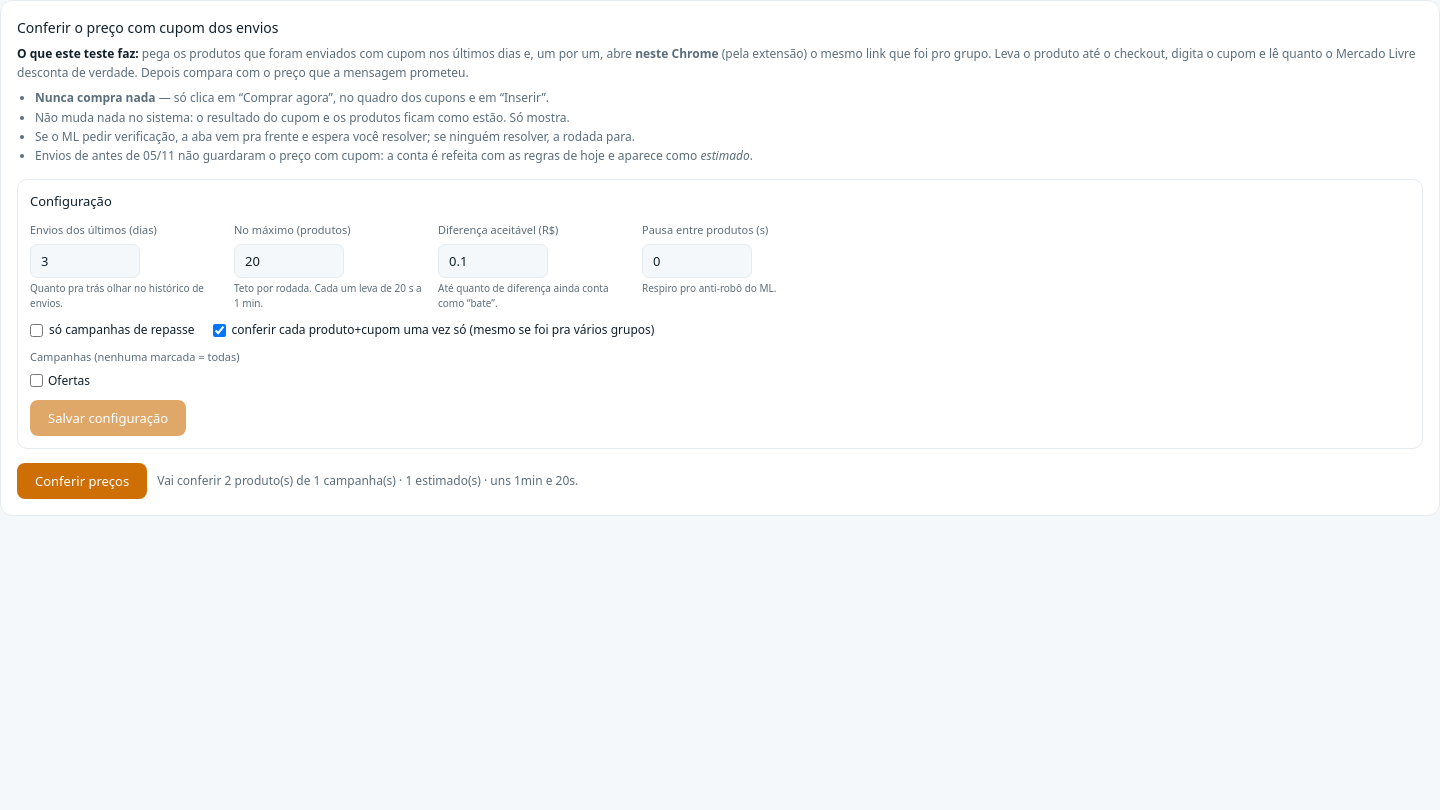
Test: Cupons Teste › verificação do ML não resolvida para a rodada toda
Click the button "Conferir preços" at (82, 481), box [17,463,147,499]
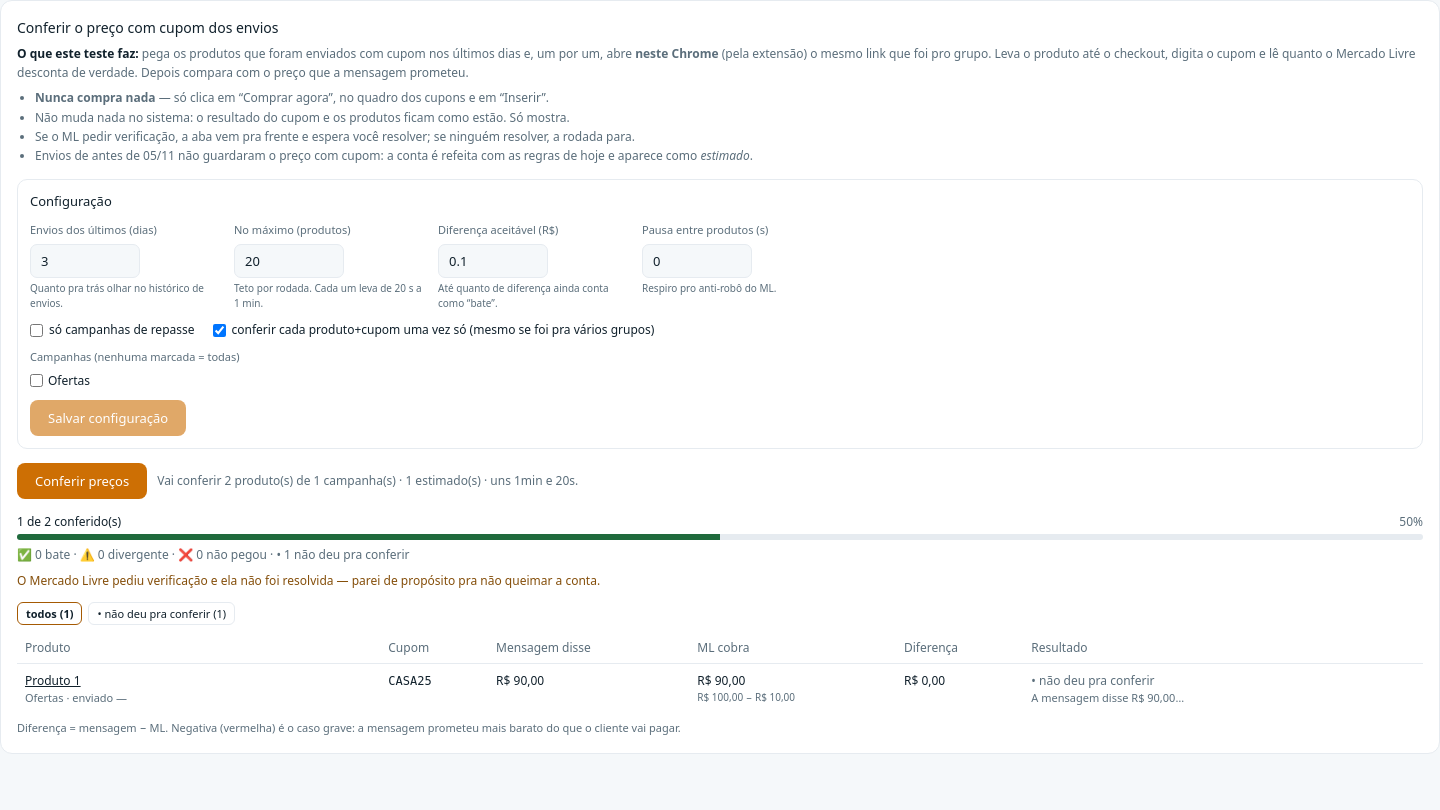
expect the text "pediu verificação e ela não foi resolvida" is shown: met, box [17,572,600,589]
